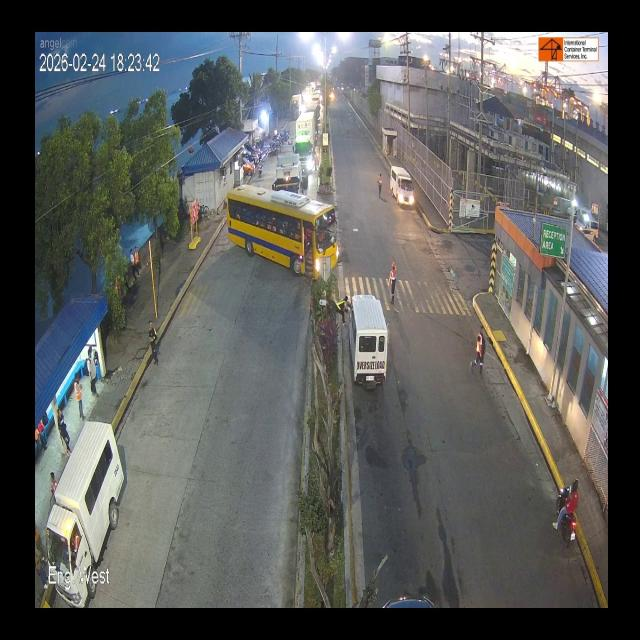bus: (219, 175, 345, 282)
car: (42, 435, 128, 565), (348, 285, 389, 402), (391, 163, 417, 210)
truck: (286, 111, 320, 170)
